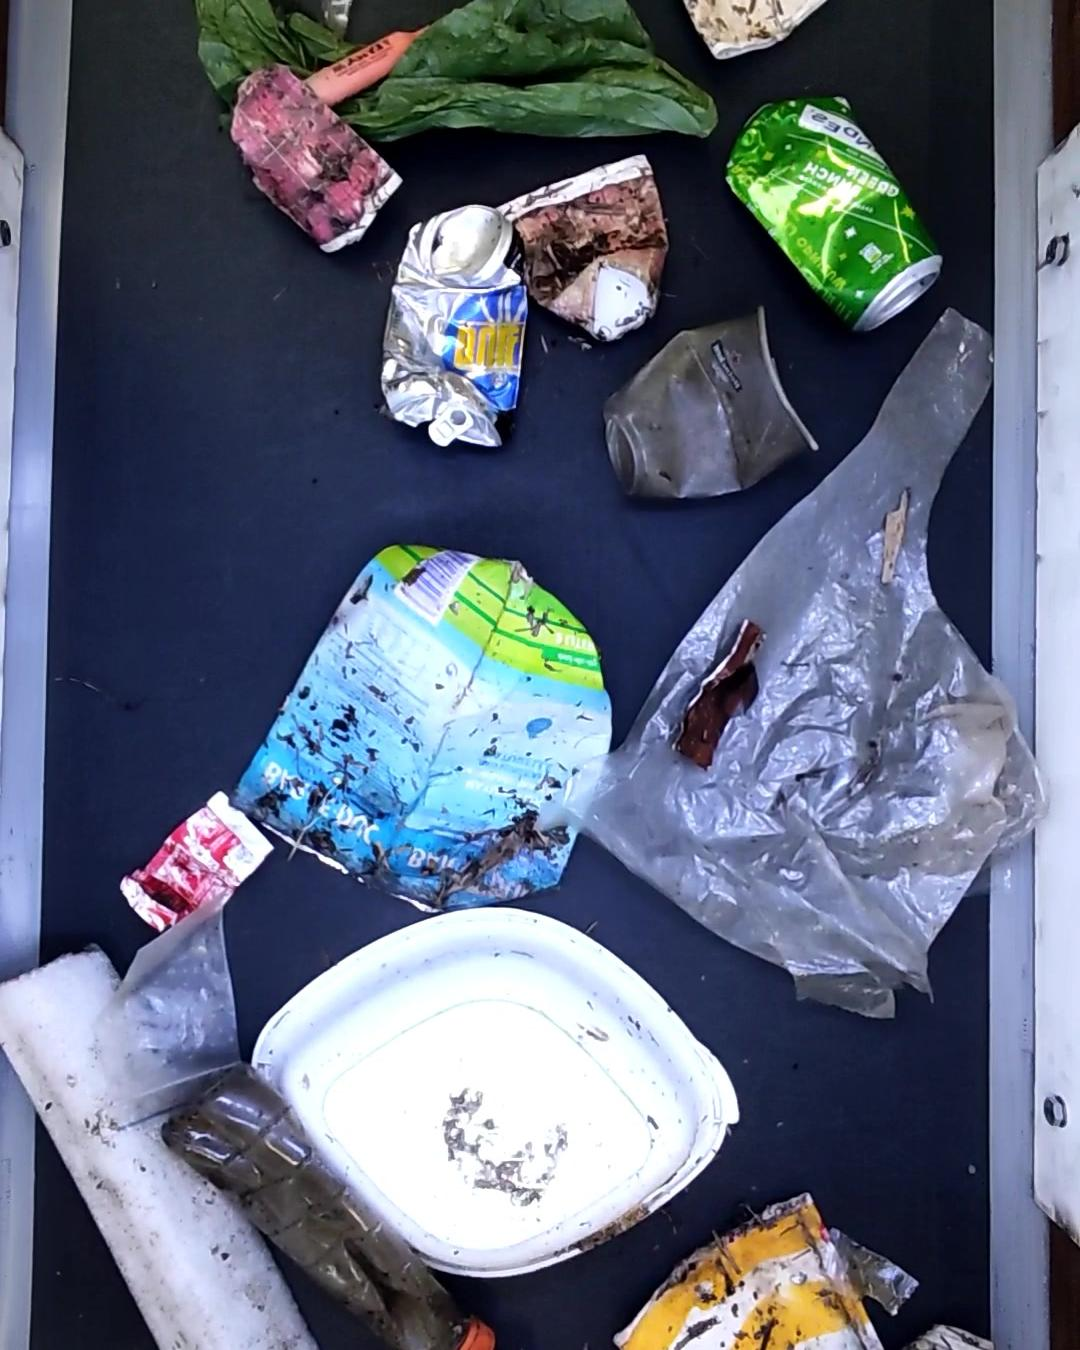Drankblikjes: (723, 86, 937, 327), (380, 205, 530, 449)
Drankflessen - 1-2 liter: (183, 1059, 499, 1350)
Plastic folies of stukken daarvan 2.5- 50 cm: (569, 307, 1009, 1023), (818, 1225, 920, 1315)
Snoep snack en chips verpakkingen: (118, 796, 271, 930)
Voedselverpakkingen: (245, 897, 747, 1284)
